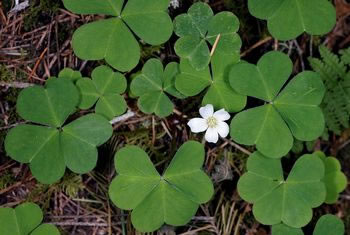oxalis: (69, 3, 323, 157), (92, 145, 350, 234), (15, 51, 134, 178)
